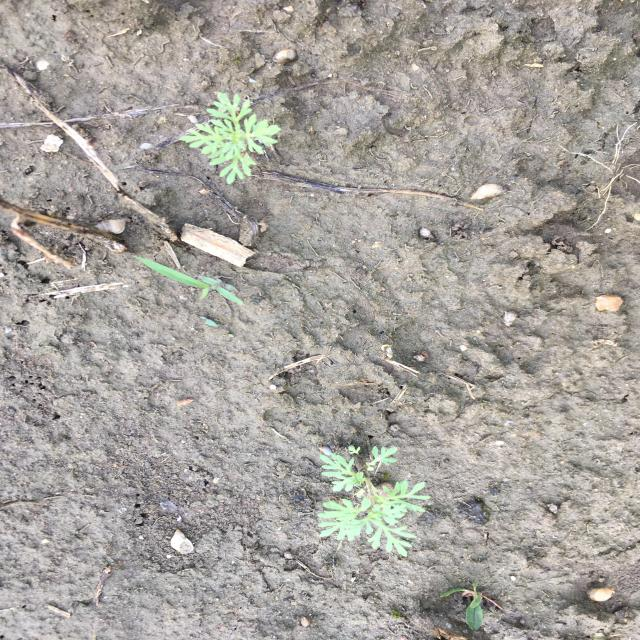Ragweed: (317, 444, 433, 559), (178, 90, 284, 186)
